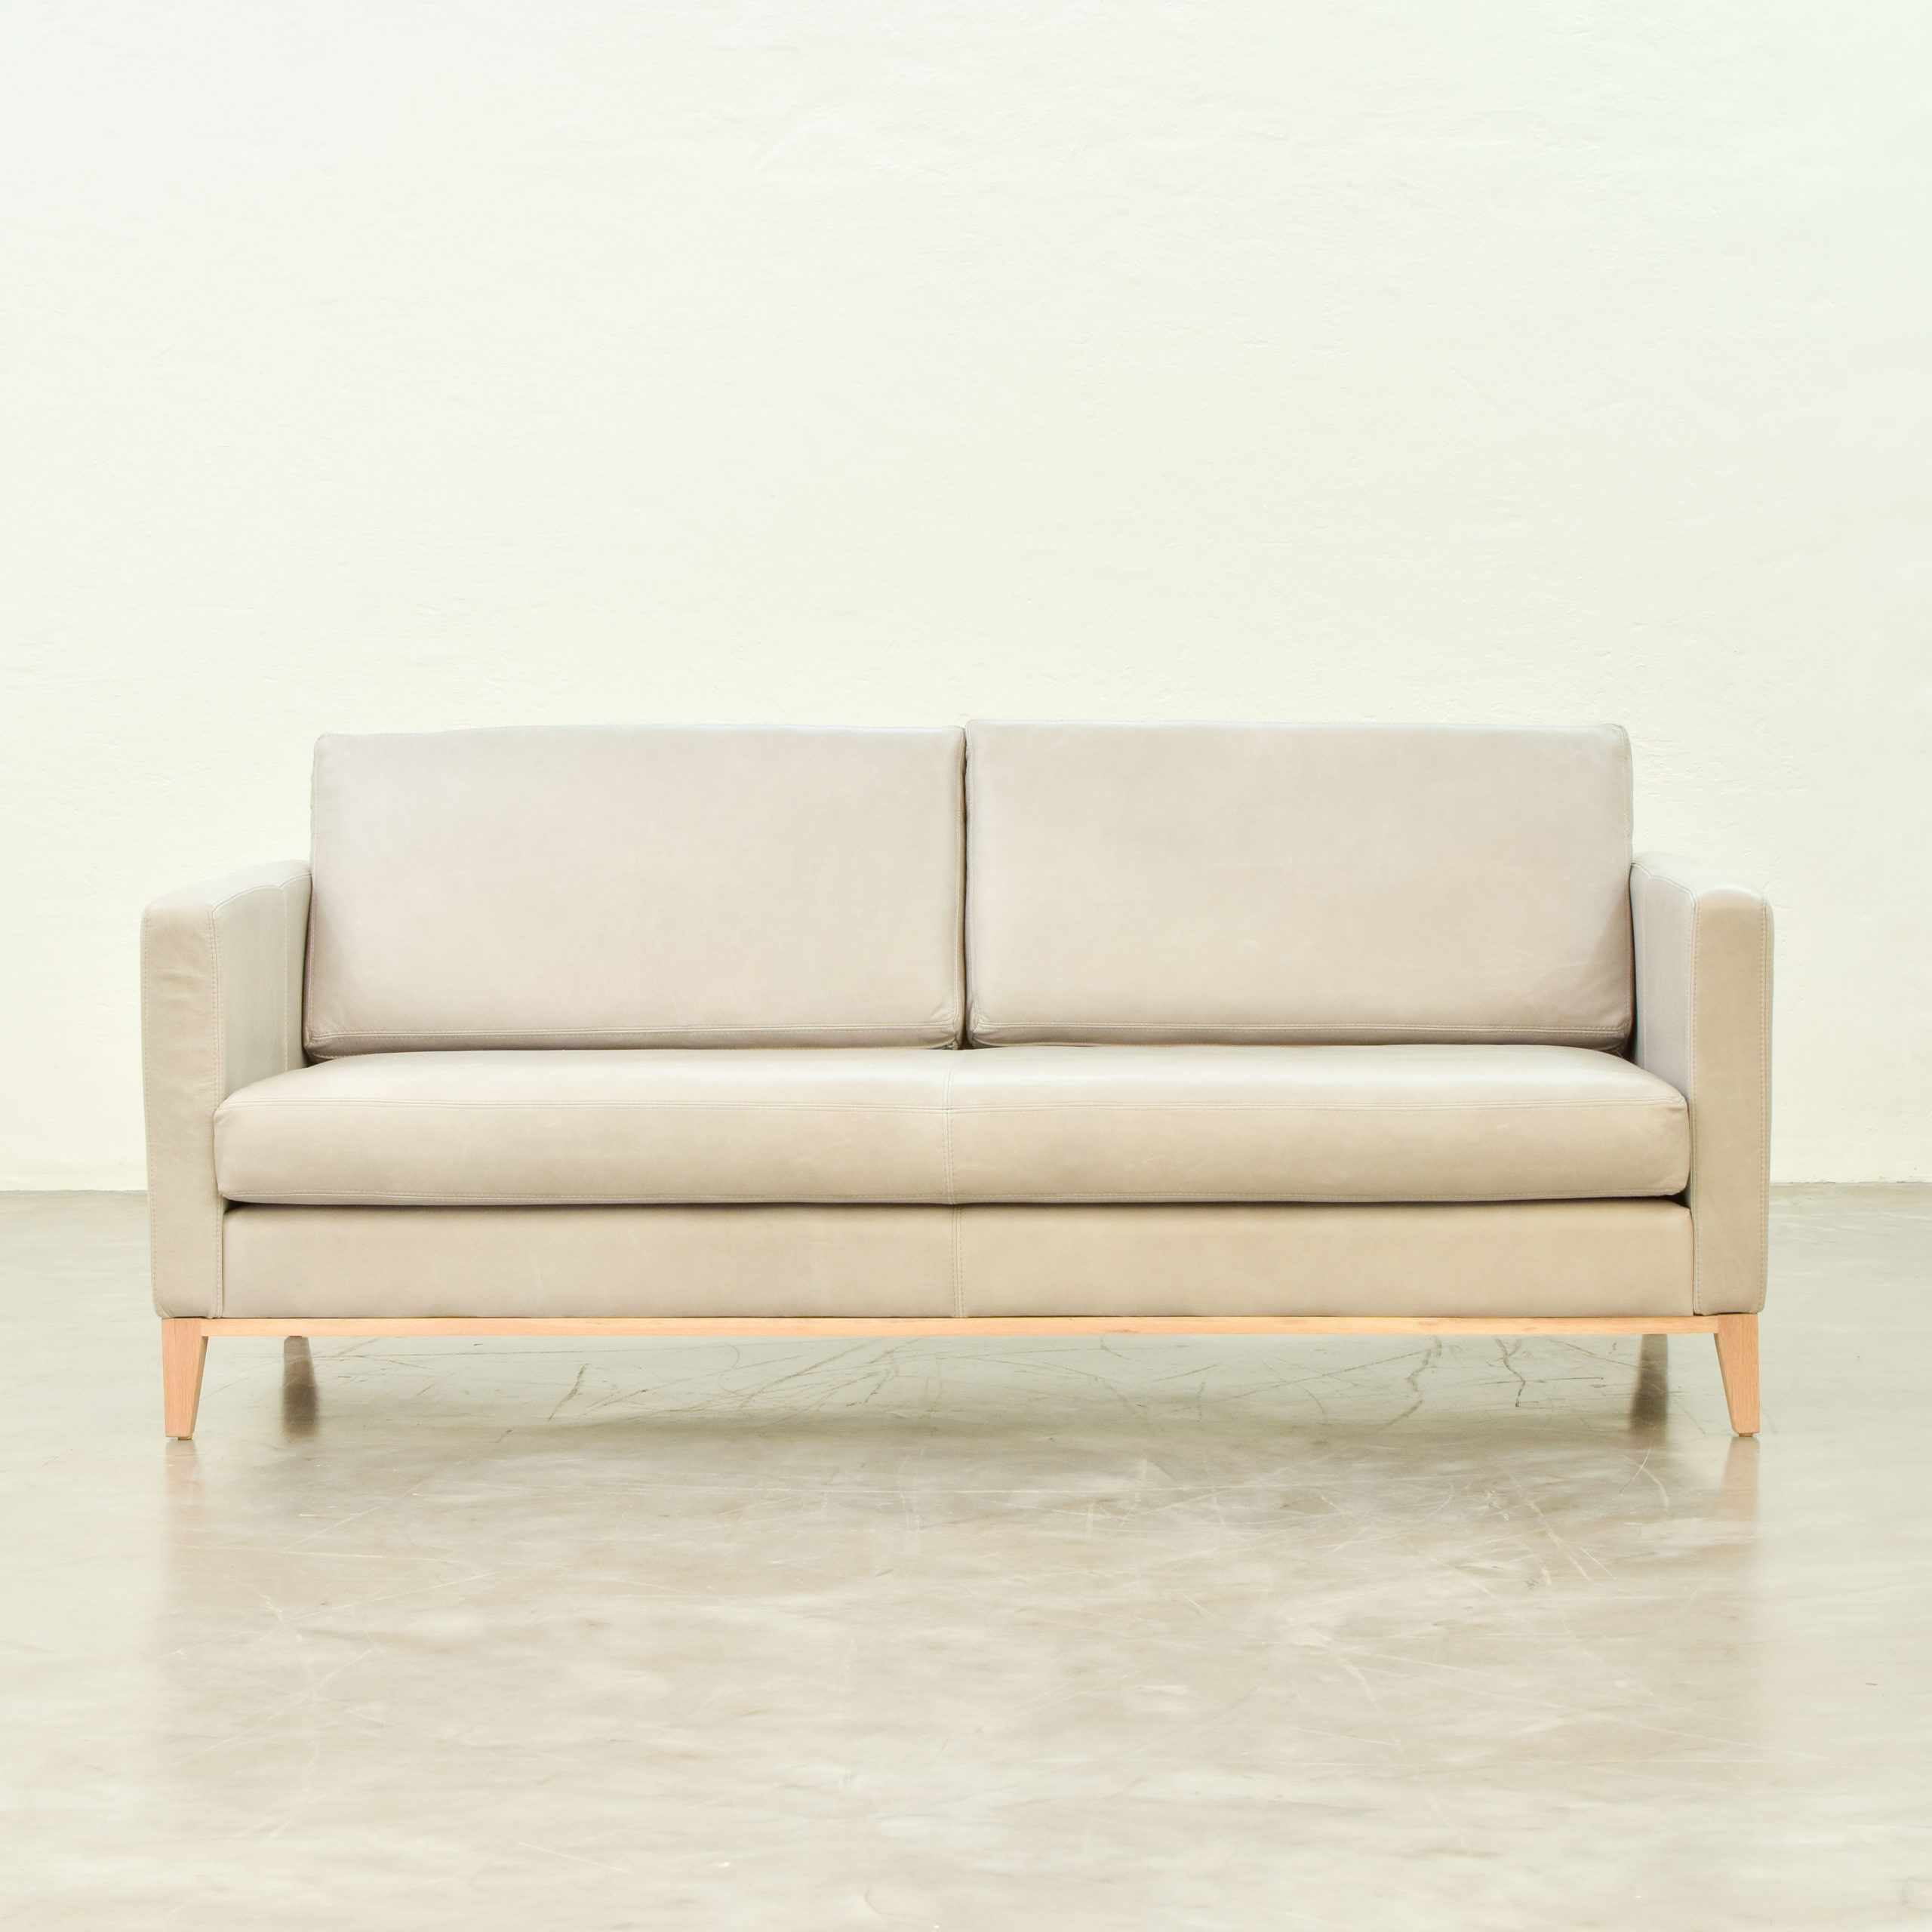sova: (133, 720, 1796, 1453)
